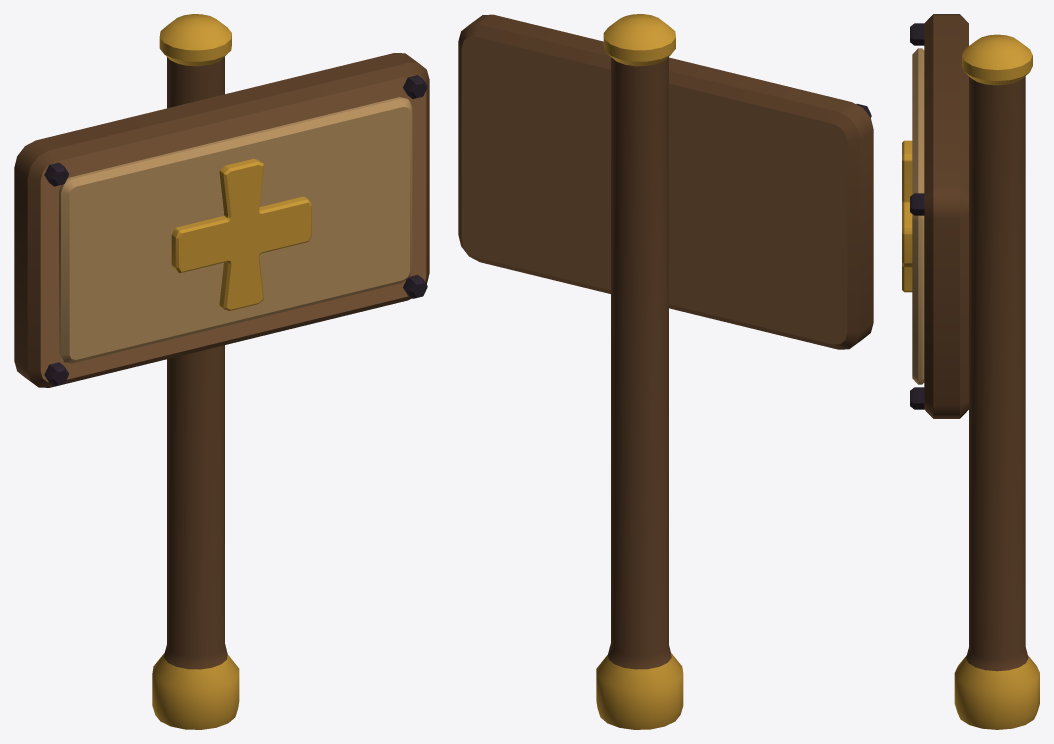
Rendered from Sign_23.glb.
3 renders of one model, left to right at view 1: azimuth 30°, elevation 25°; view 2: azimuth 150°, elevation 25°; view 3: azimuth 270°, elevation 25°, orthographic. The views are drawn at different scales.
Visible parts, largest first — view 1: Sign_23; view 2: Sign_23; view 3: Sign_23.
Part boxes in pixels (x1=…): Sign_23: x1=14, y1=14, x2=429, y2=729; Sign_23: x1=458, y1=14, x2=873, y2=729; Sign_23: x1=902, y1=14, x2=1039, y2=729.
Size of the model in its own units: 2.22 by 3.66 by 0.68.
